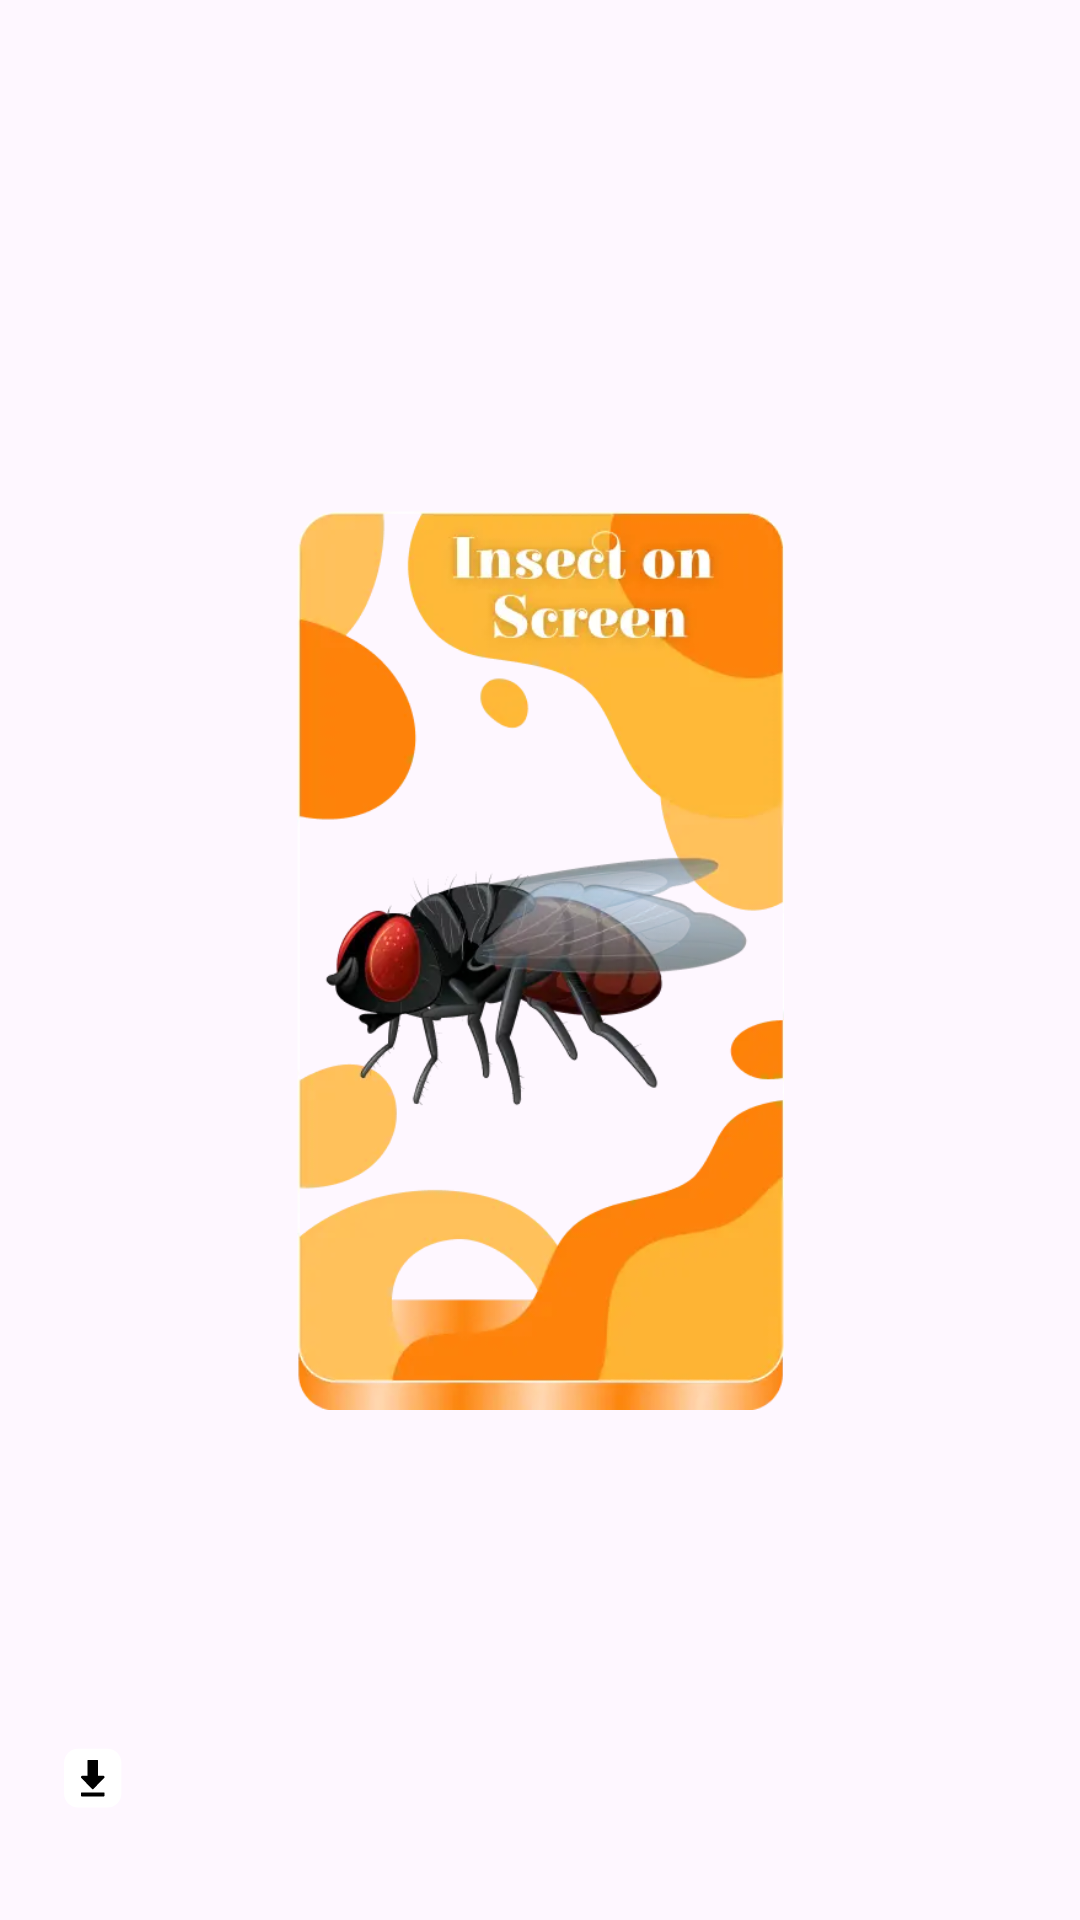

Named icons in this screenshot (1080w x 1920h) and their centers, [x,y]:
downloadable: [93,1778]
